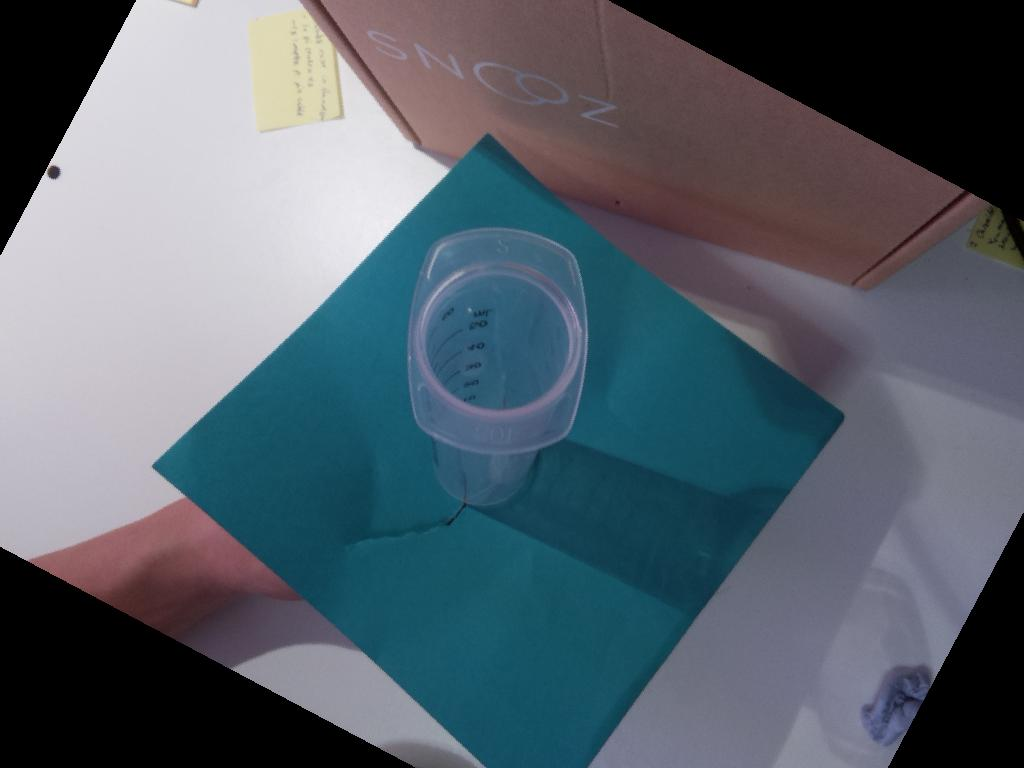clean: (407, 226, 592, 453)
